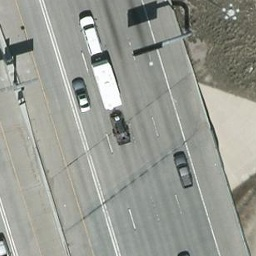car: (81, 16, 99, 55), (173, 152, 193, 187), (73, 76, 91, 114)
